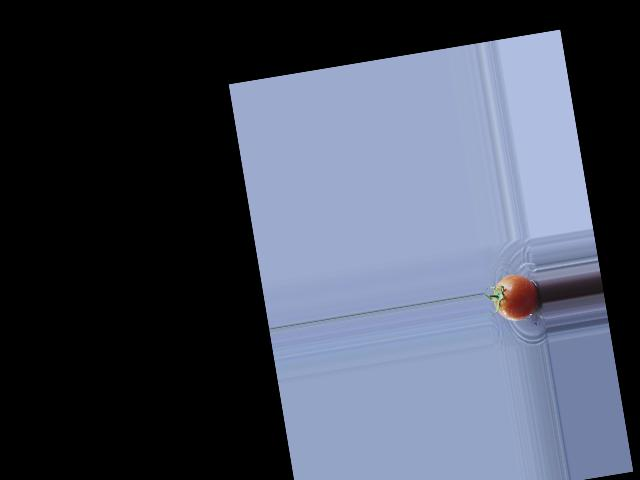tomato: (490, 271, 541, 323)
